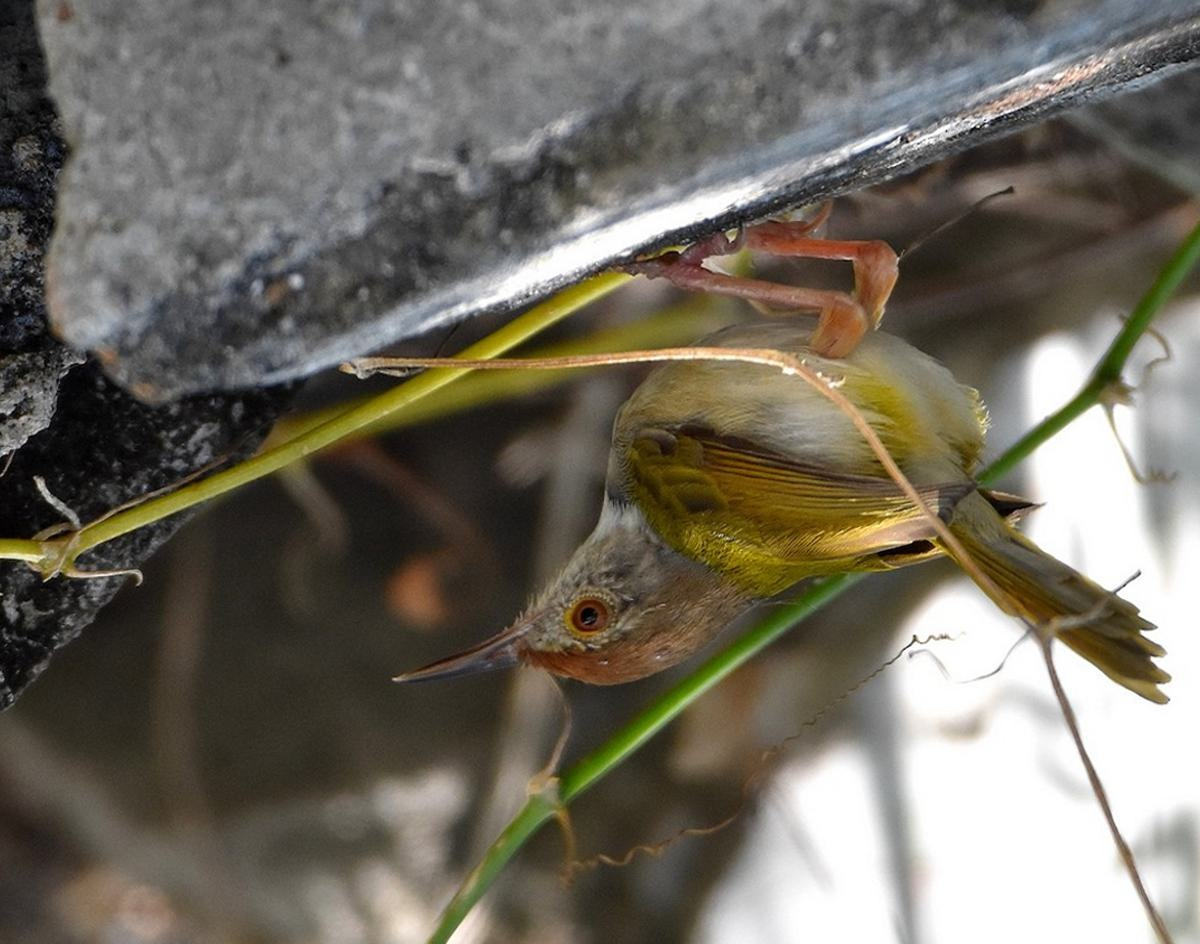tailorbird: (382, 205, 1168, 751)
